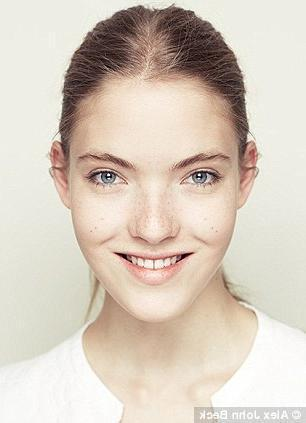Sober: (79, 92, 230, 302)
